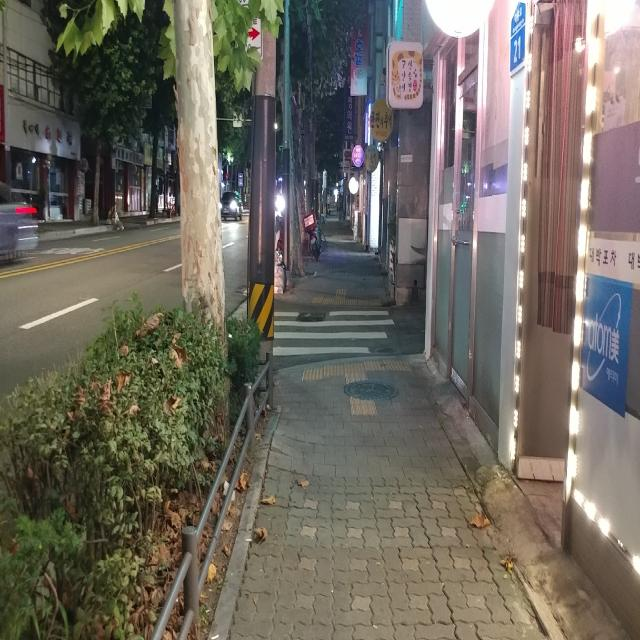횡단보도: (272, 310, 395, 356)
